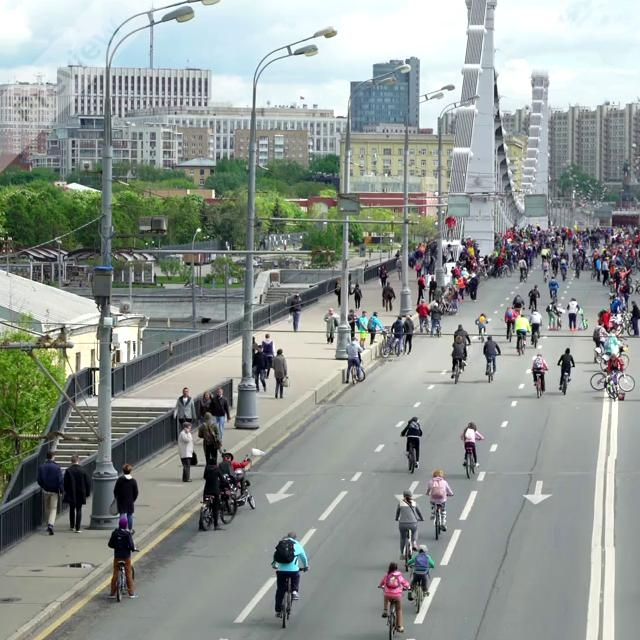bicycle: (271, 563, 308, 628), (198, 486, 235, 532), (378, 584, 408, 639), (112, 546, 138, 602), (406, 561, 433, 613), (398, 519, 423, 572), (590, 366, 634, 392), (430, 498, 447, 540), (462, 441, 478, 479), (404, 438, 420, 473), (348, 355, 365, 383), (450, 354, 465, 383), (532, 369, 546, 398), (484, 353, 497, 382), (559, 368, 572, 395), (475, 319, 489, 343), (515, 330, 526, 355)
